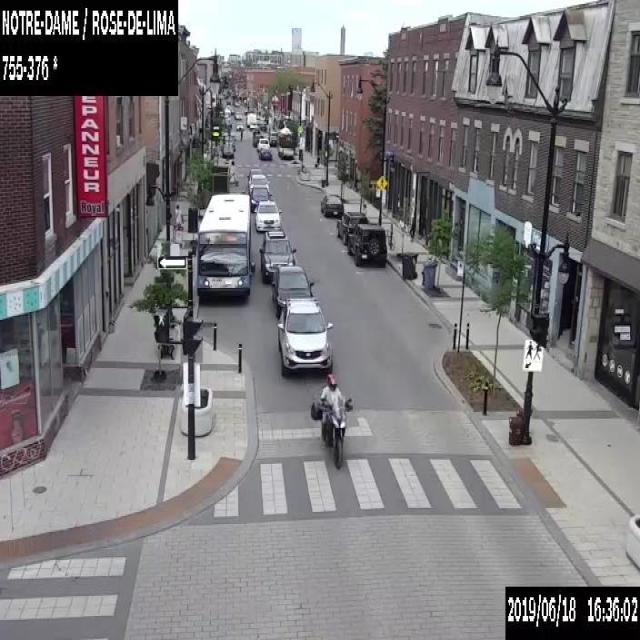bus: (190, 194, 255, 300)
pedestrian: (174, 204, 183, 228), (227, 160, 235, 182), (239, 128, 242, 140)
vehicle: (276, 297, 332, 376), (310, 374, 353, 468), (271, 265, 314, 317), (258, 230, 296, 284), (347, 222, 385, 266), (336, 210, 368, 244), (254, 200, 282, 231), (250, 186, 271, 212), (320, 193, 342, 216), (248, 173, 269, 195), (277, 140, 293, 158), (221, 132, 236, 150), (246, 168, 263, 180), (258, 146, 272, 159), (256, 137, 269, 150), (246, 112, 256, 126), (252, 134, 263, 146), (222, 144, 232, 157), (258, 120, 266, 131), (268, 135, 276, 144), (233, 110, 242, 118), (235, 122, 242, 129), (252, 128, 259, 134), (249, 121, 255, 128)
